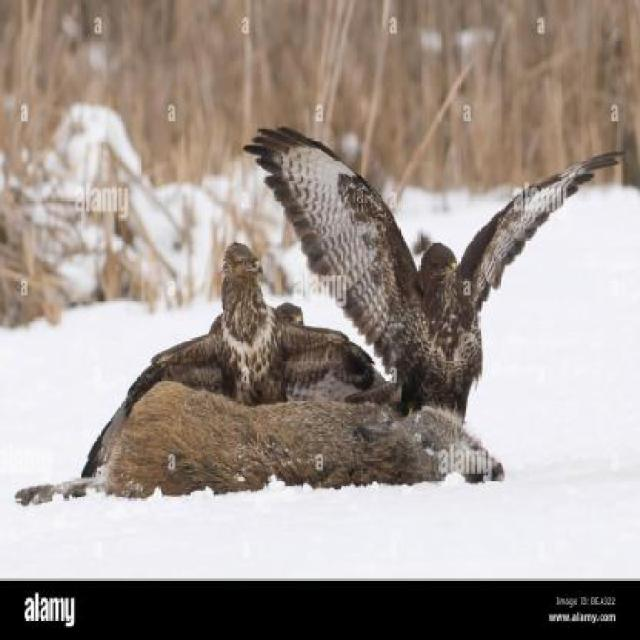wildboar: (11, 372, 520, 514)
